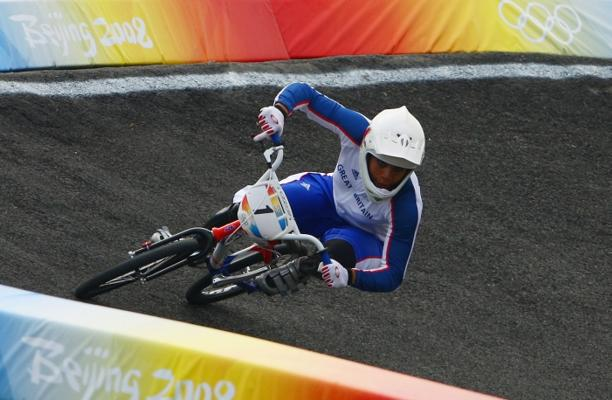person: (201, 82, 424, 298)
